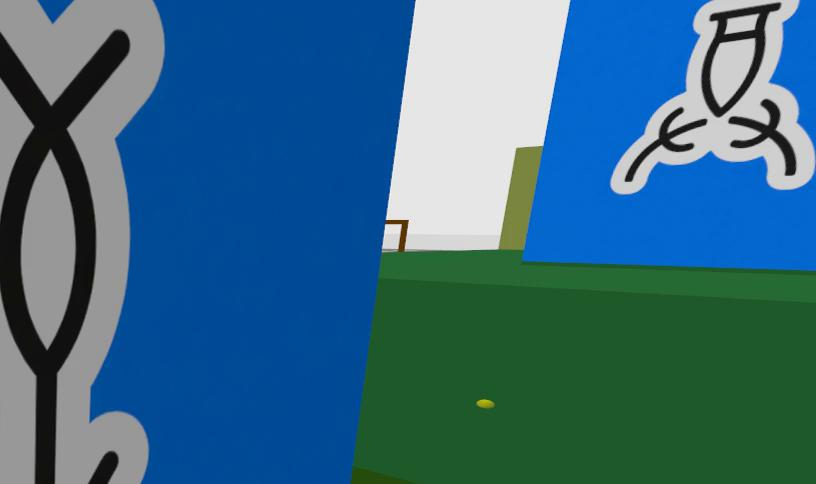KFS_REAL: (0, 0, 412, 484), (0, 0, 163, 484), (526, 0, 815, 270), (609, 0, 815, 194)
